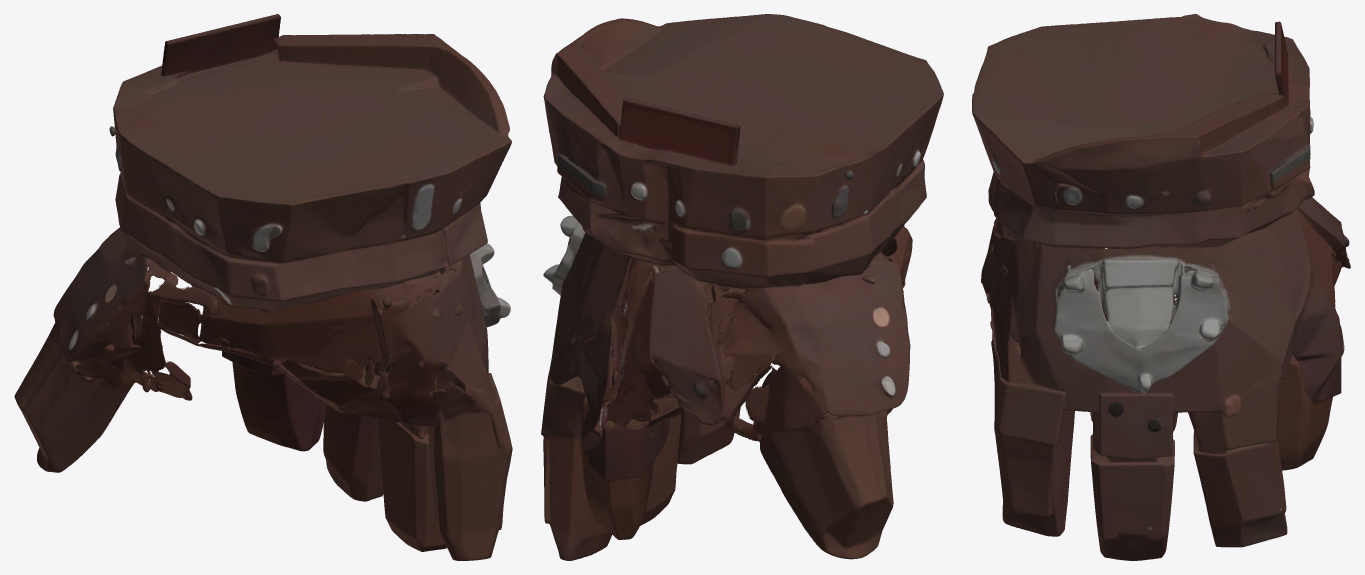
File: gear_gauntlet.glb
3 renders of one model, left to right at view 1: azimuth 30°, elevation 25°; view 2: azimuth 150°, elevation 25°; view 3: azimuth 270°, elevation 25°, orthographic. The views are drawn at different scales.
Visible parts, largest first — view 1: tripo_node_416bca97-bec5-4640-85bc-1948fc84eda1; view 2: tripo_node_416bca97-bec5-4640-85bc-1948fc84eda1; view 3: tripo_node_416bca97-bec5-4640-85bc-1948fc84eda1.
Boxes of the visible parts, left/top/right/bottom form: tripo_node_416bca97-bec5-4640-85bc-1948fc84eda1: left=14, top=14, right=512, bottom=560; tripo_node_416bca97-bec5-4640-85bc-1948fc84eda1: left=541, top=14, right=943, bottom=560; tripo_node_416bca97-bec5-4640-85bc-1948fc84eda1: left=972, top=14, right=1350, bottom=560.
Size of the model in its own units: 0.8249 by 1 by 0.7562.
1 material, 1 textured.
